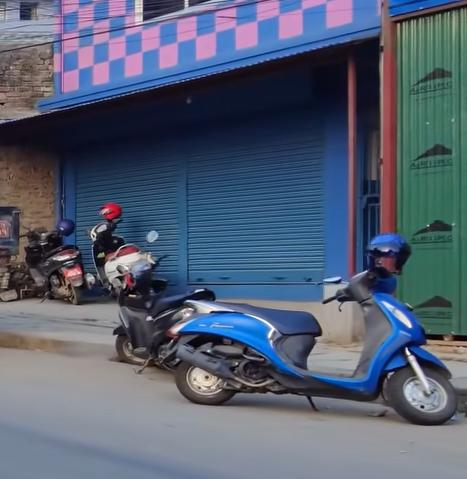scooter: (160, 259, 467, 429), (107, 254, 212, 367), (20, 218, 88, 306), (89, 214, 155, 295)
